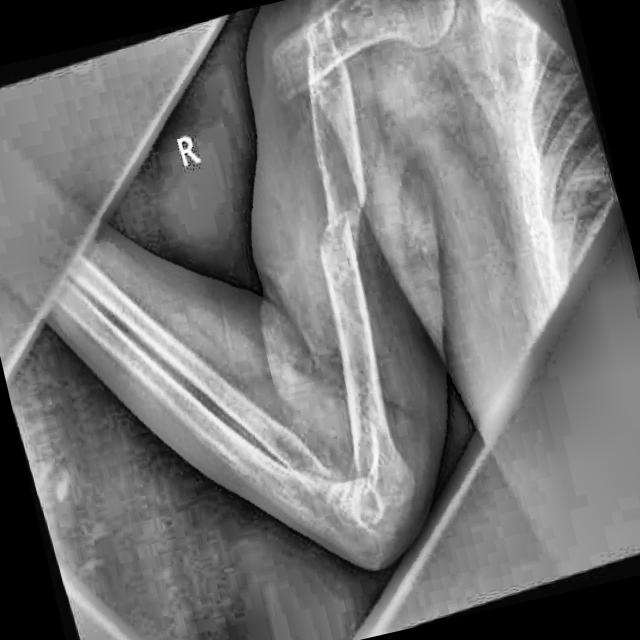humerus: (296, 193, 402, 370), (258, 0, 373, 142)
